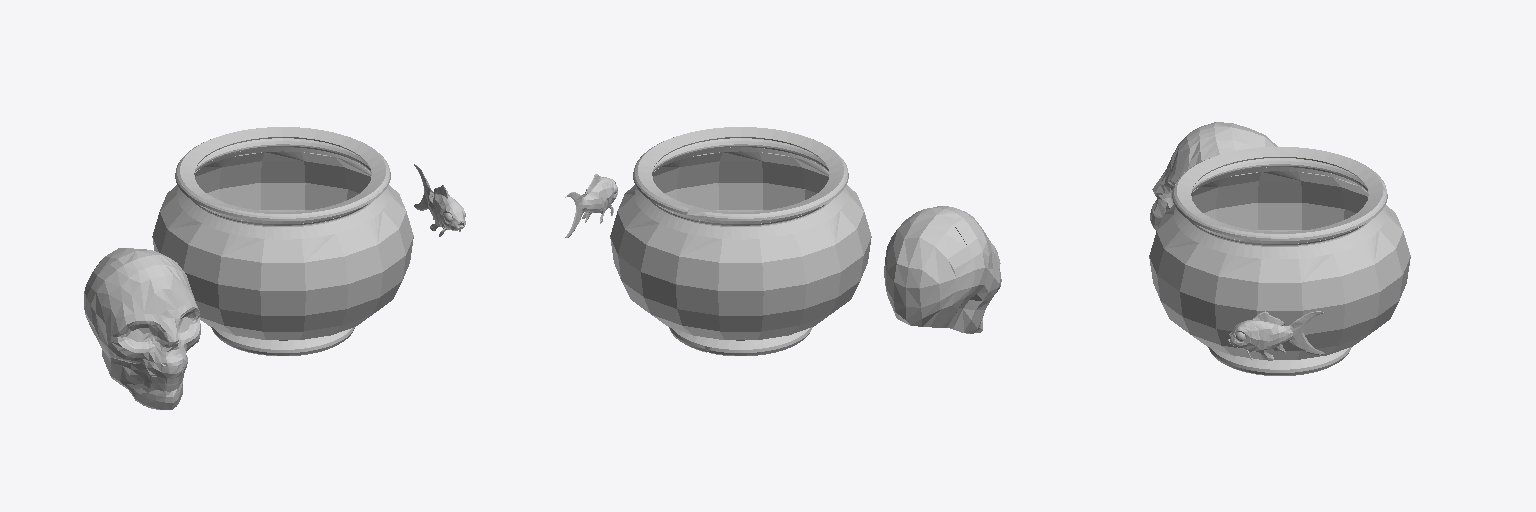
The model's file is GoldfishAndBowlWithSkull.obj.
3 renders of one model, left to right at view 1: azimuth 30°, elevation 25°; view 2: azimuth 150°, elevation 25°; view 3: azimuth 270°, elevation 25°, orthographic.
Visible parts, largest first — view 1: initialShadingGrouprevolvedSurface1, initialShadingGroup Skull:polySurface1, initialShadingGrouppolySurface1, initialShadingGroup Skull:polySurface2; view 2: initialShadingGrouprevolvedSurface1, initialShadingGroup Skull:polySurface1, initialShadingGrouppolySurface1; view 3: initialShadingGrouprevolvedSurface1, initialShadingGroup Skull:polySurface1, initialShadingGrouppolySurface1.
Part boxes in pixels (x1,y1,x2,y2): initialShadingGrouprevolvedSurface1: (152,127,413,355); initialShadingGroup Skull:polySurface1: (84,248,200,409); initialShadingGrouppolySurface1: (414,164,465,236); initialShadingGroup Skull:polySurface2: (137,369,185,391); initialShadingGrouprevolvedSurface1: (610,127,871,355); initialShadingGroup Skull:polySurface1: (884,206,1001,333); initialShadingGrouppolySurface1: (565,174,617,237); initialShadingGrouprevolvedSurface1: (1149,147,1410,375); initialShadingGroup Skull:polySurface1: (1150,122,1277,229); initialShadingGrouppolySurface1: (1228,311,1324,360).
Bounding box in the file's own units: 67.75 × 26.68 × 40.16.